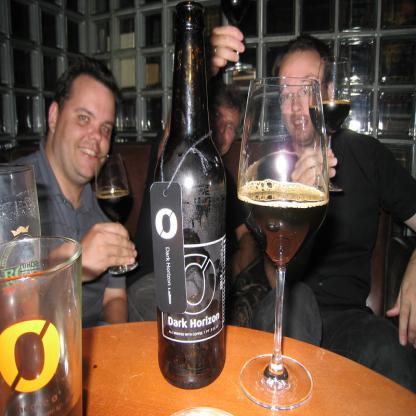drinking: (237, 78, 329, 411), (154, 0, 227, 390), (0, 235, 82, 415), (312, 56, 350, 192), (96, 154, 138, 274)
